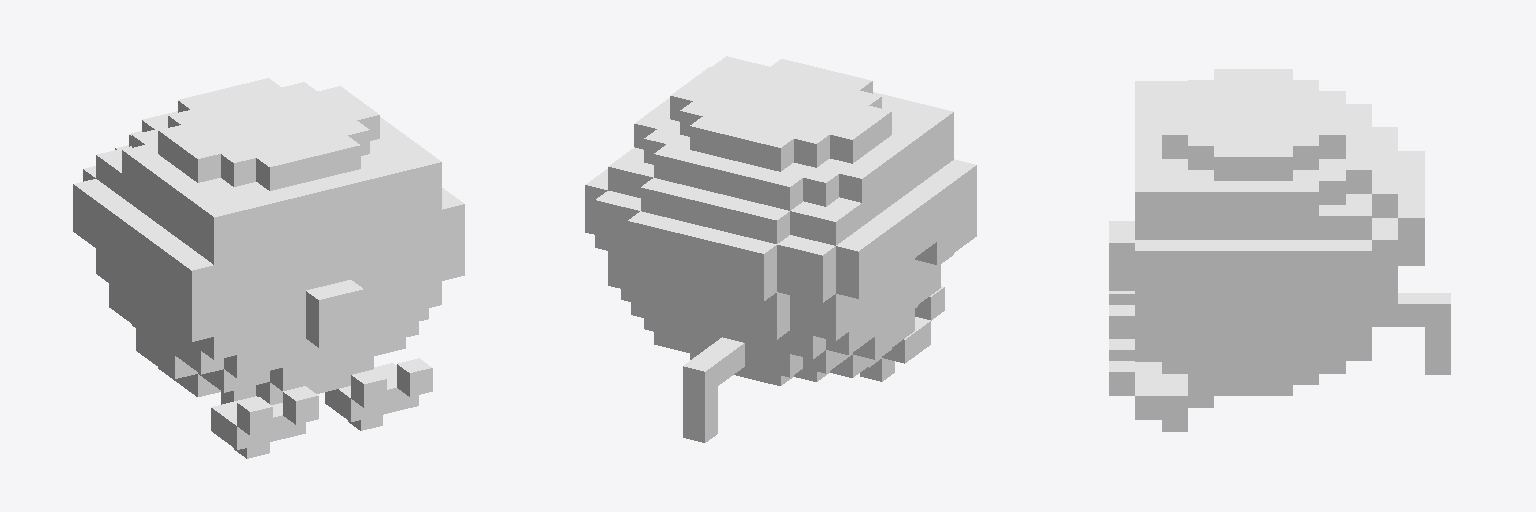
Rendered from PookaWalk2Cardinal.obj.
3 views of the same model, side by side, from view 1: azimuth 30°, elevation 25°; view 2: azimuth 150°, elevation 25°; view 3: azimuth 270°, elevation 25° (orthographic).
Visible parts, largest first — view 1: object 1; view 2: object 1; view 3: object 1.
Boxes of the visible parts, <box> form: object 1: <box>73,78,464,458</box>; object 1: <box>585,56,976,442</box>; object 1: <box>1109,69,1450,431</box>.
Size of the model in its own units: 1.2 by 1.2 by 1.3.